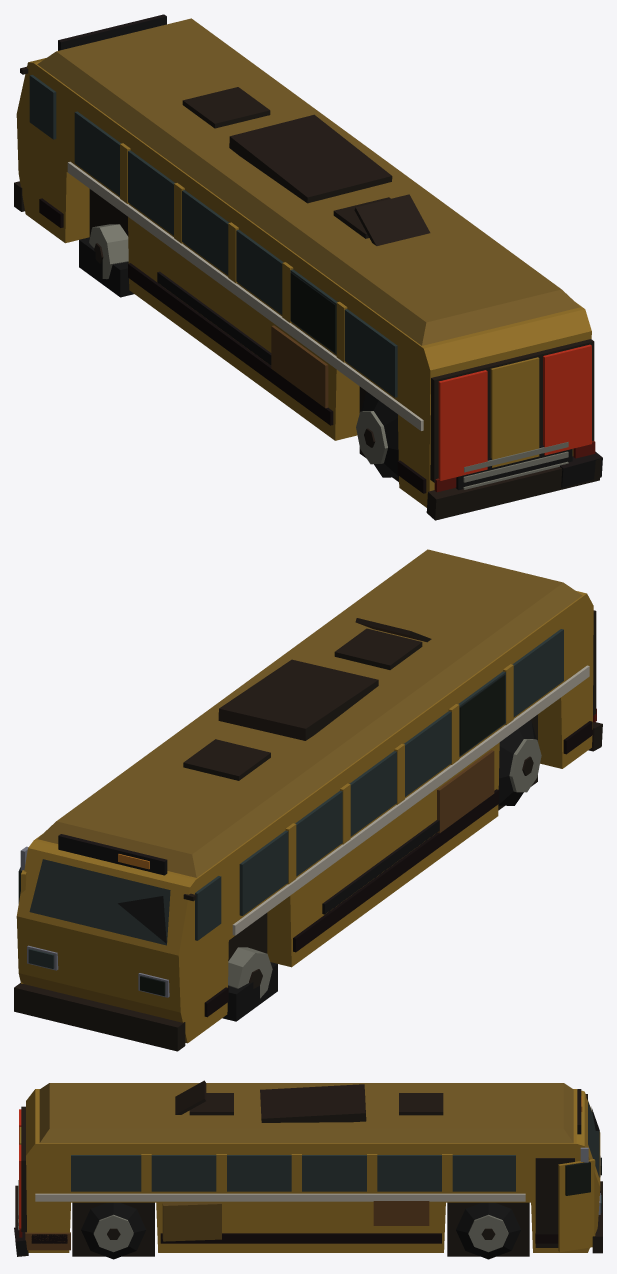
The model's file is bus.glb.
3 renders of one model, top to bottom at view 1: azimuth 30°, elevation 25°; view 2: azimuth 150°, elevation 25°; view 3: azimuth 270°, elevation 25°, orthographic. The views are drawn at different scales.
Visible parts, largest first — view 1: CrashedBus; view 2: CrashedBus; view 3: CrashedBus.
Boxes of the visible parts, x1=… form: CrashedBus: x1=14, y1=14, x2=602, y2=520; CrashedBus: x1=14, y1=549, x2=602, y2=1051; CrashedBus: x1=14, y1=1080, x2=602, y2=1259.
Size of the model in its own units: 2.25 by 2.49 by 9.
